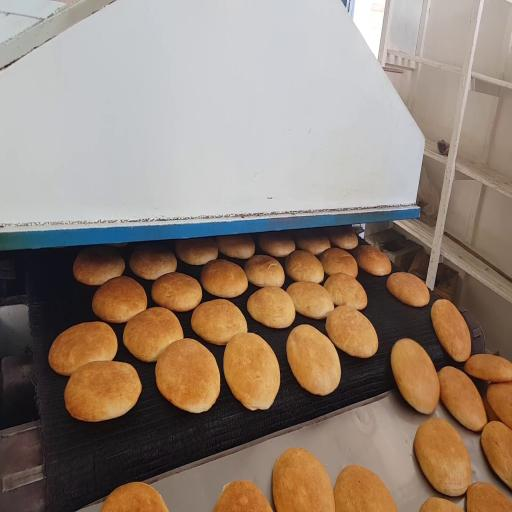bread: (156, 339, 220, 412), (64, 361, 141, 421), (414, 418, 471, 496), (224, 333, 280, 410), (272, 448, 335, 511), (287, 325, 340, 395), (49, 322, 117, 375), (391, 339, 439, 414), (123, 307, 183, 362), (439, 366, 487, 431), (334, 466, 397, 511), (326, 306, 378, 358), (92, 276, 147, 323), (191, 299, 247, 345), (431, 299, 471, 362), (481, 421, 511, 488), (73, 247, 125, 285), (247, 287, 295, 328), (152, 273, 202, 311), (101, 483, 168, 511), (200, 259, 247, 298), (214, 481, 272, 511), (287, 282, 334, 319), (129, 244, 177, 280), (324, 273, 367, 310), (387, 272, 429, 307), (465, 354, 511, 382), (244, 255, 284, 287), (467, 482, 511, 511), (285, 250, 323, 283), (175, 237, 218, 266), (486, 382, 512, 428), (319, 248, 357, 277), (355, 246, 391, 276), (216, 235, 255, 259), (258, 232, 295, 257), (294, 230, 330, 255), (327, 226, 358, 249), (420, 498, 461, 511), (482, 394, 499, 422)
